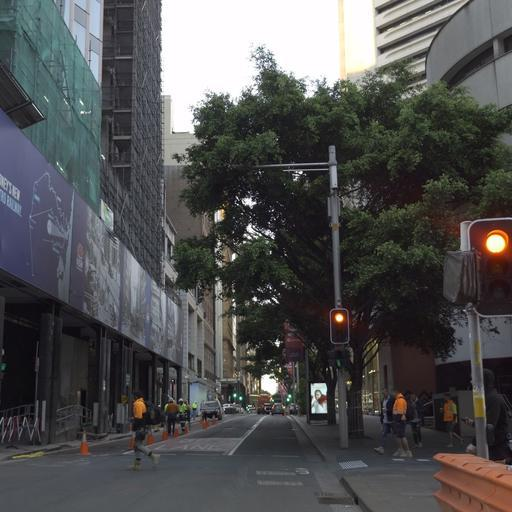Street light: (252, 144, 351, 448), (457, 215, 511, 461), (461, 216, 511, 314), (328, 306, 349, 344)
